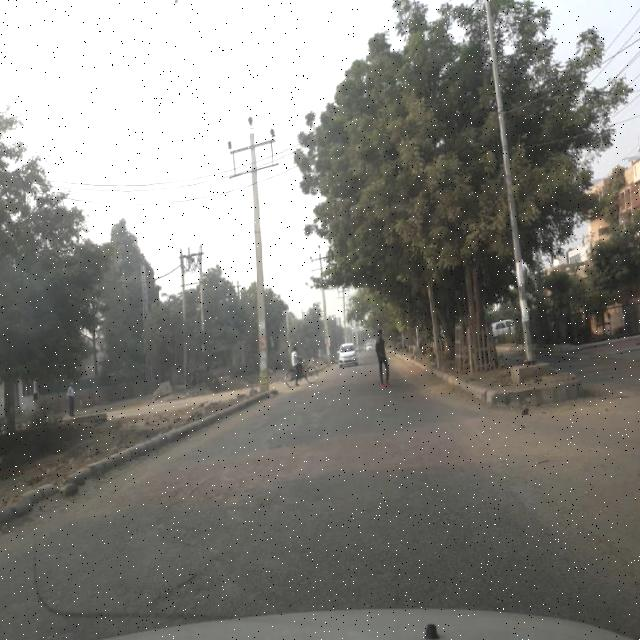D00: (147, 563, 216, 609)
